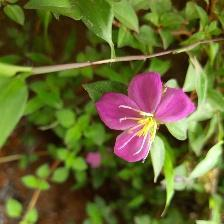malabar melastome: (95, 71, 196, 161)
